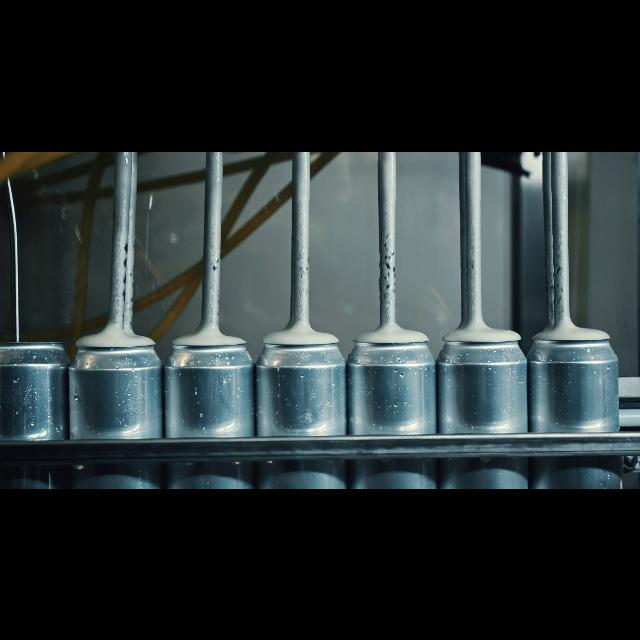empty: (4, 329, 68, 488)
full: (72, 324, 162, 488), (534, 314, 618, 488), (441, 322, 529, 488), (260, 322, 346, 488), (168, 326, 254, 488), (352, 322, 433, 488)
